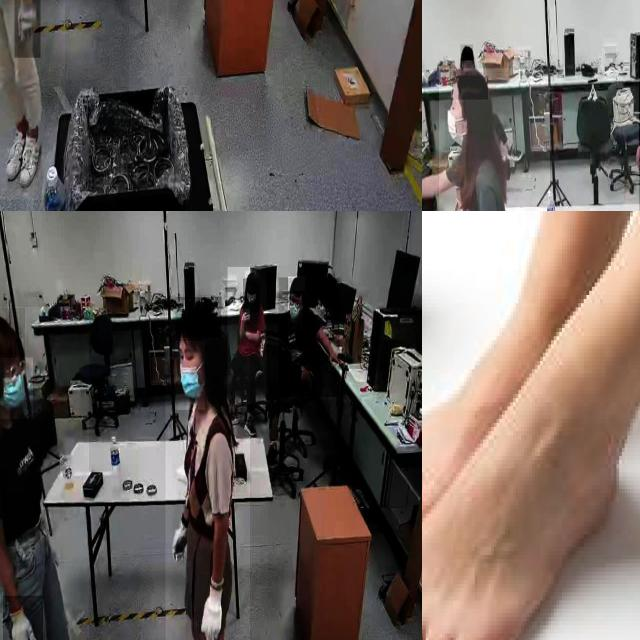Barefoots: (422, 445, 621, 640)
face_mask: (175, 341, 205, 410), (0, 357, 33, 418), (445, 102, 465, 150), (243, 278, 259, 312), (288, 294, 303, 330)
hand_glove: (195, 571, 228, 640), (2, 596, 43, 640), (14, 0, 41, 58), (172, 518, 190, 569)
hand_noglove: (327, 348, 345, 368), (240, 309, 250, 321)
head_nohelmet: (176, 297, 222, 339), (0, 308, 25, 356), (452, 76, 488, 100), (288, 276, 306, 292), (461, 44, 474, 61), (245, 270, 261, 283)
person: (0, 307, 89, 640), (165, 300, 250, 640), (439, 68, 550, 211), (0, 0, 65, 200), (278, 278, 340, 398), (227, 267, 267, 405)
shoes: (18, 124, 44, 190), (1, 126, 29, 187), (504, 132, 525, 164)
